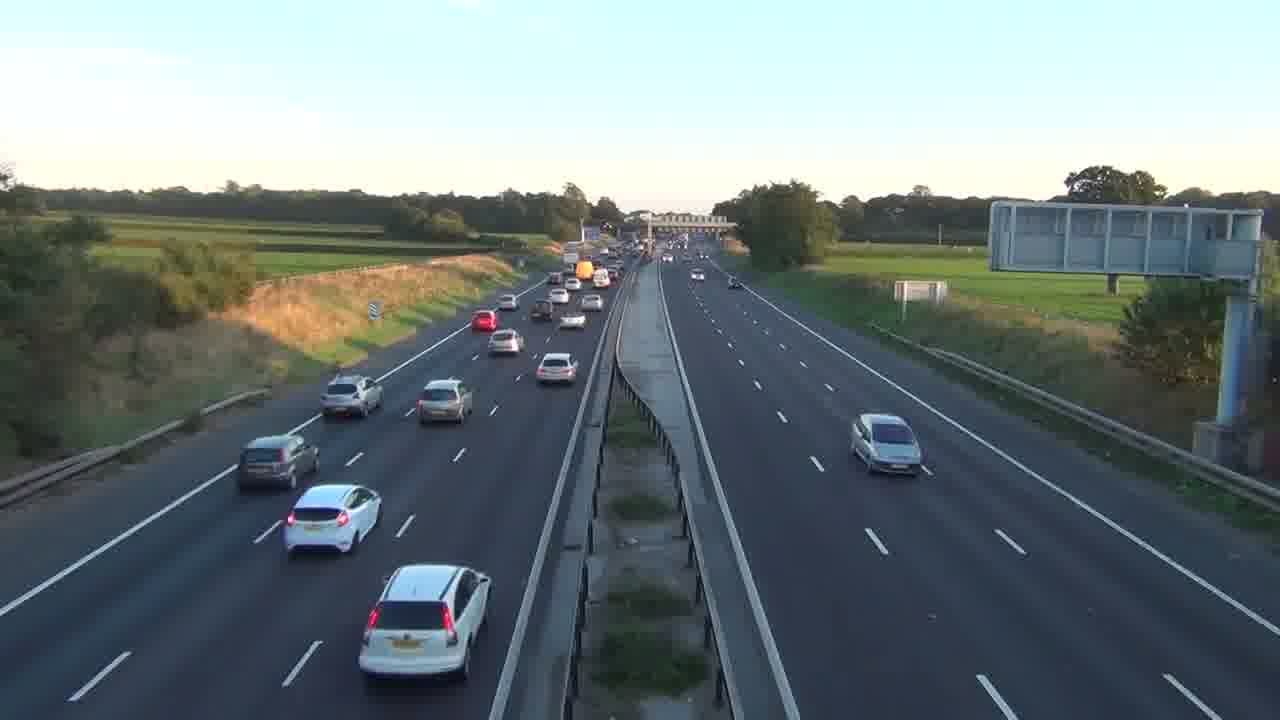car: (358, 562, 494, 683), (281, 482, 383, 557), (848, 412, 932, 478), (238, 433, 320, 491), (415, 378, 473, 424), (319, 377, 380, 420), (535, 351, 579, 385), (488, 328, 523, 356), (469, 309, 498, 333)
